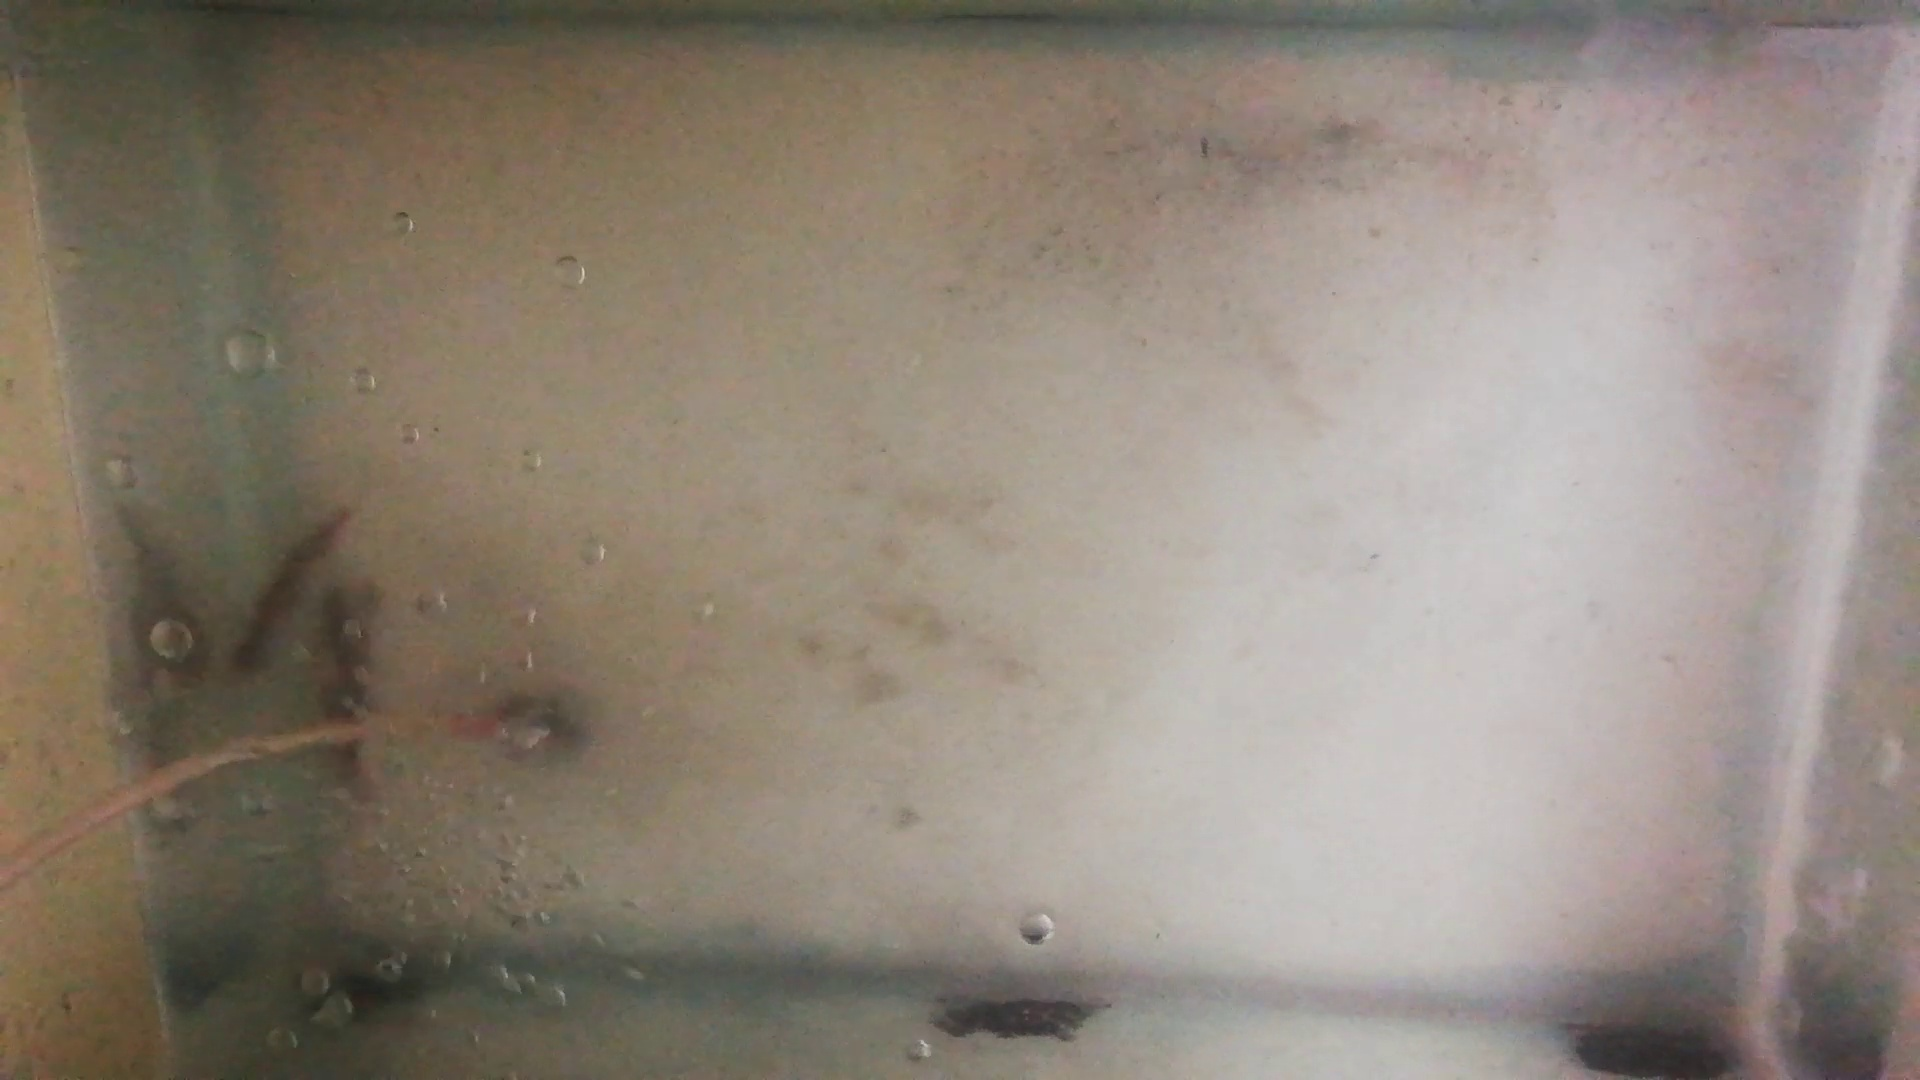fish: (228, 510, 356, 676), (309, 582, 380, 789)
